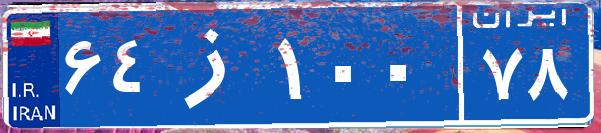0: (385, 28, 445, 110), (330, 28, 385, 110)
1: (273, 28, 330, 110)
4: (110, 28, 158, 105)
6: (57, 26, 110, 107)
7: (475, 38, 525, 113)
8: (525, 38, 570, 115)
ز: (158, 15, 273, 115)
